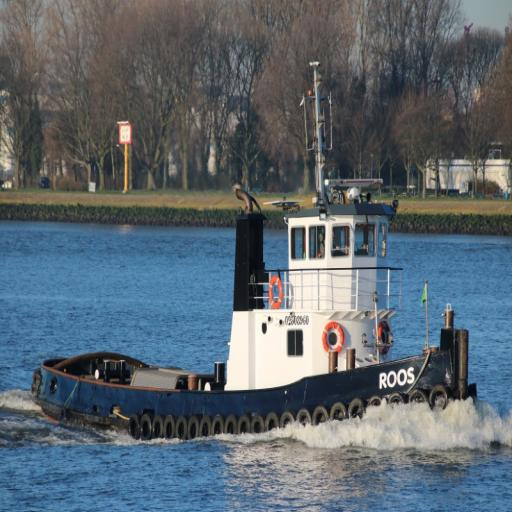tugboat: (27, 177, 480, 461)
